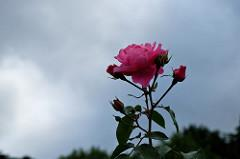Rose: (105, 39, 171, 87)
